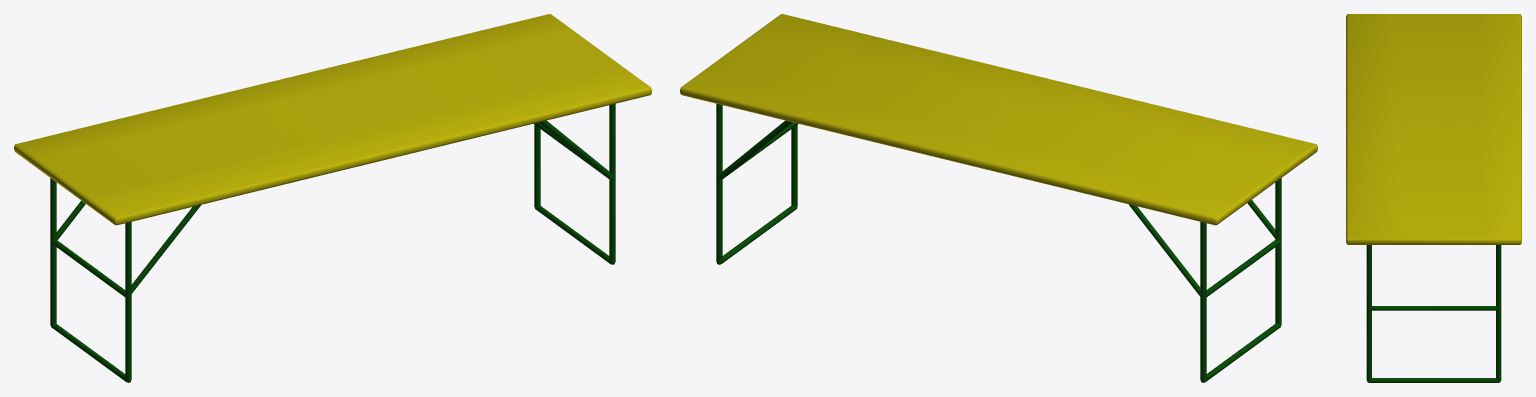
Rendered from Beer-Table.fbx.
3 renders of one model, left to right at view 1: azimuth 30°, elevation 25°; view 2: azimuth 150°, elevation 25°; view 3: azimuth 270°, elevation 25°, orthographic. The views are drawn at different scales.
Parts seen in each view (by area): view 1: Biertisch_1; view 2: Biertisch_1; view 3: Biertisch_1.
Part boxes in pixels (x1=…): Biertisch_1: x1=14, y1=14, x2=651, y2=382; Biertisch_1: x1=680, y1=14, x2=1317, y2=382; Biertisch_1: x1=1346, y1=14, x2=1521, y2=382.
Size of the model in its own units: 200 by 64.31 by 65.9.
